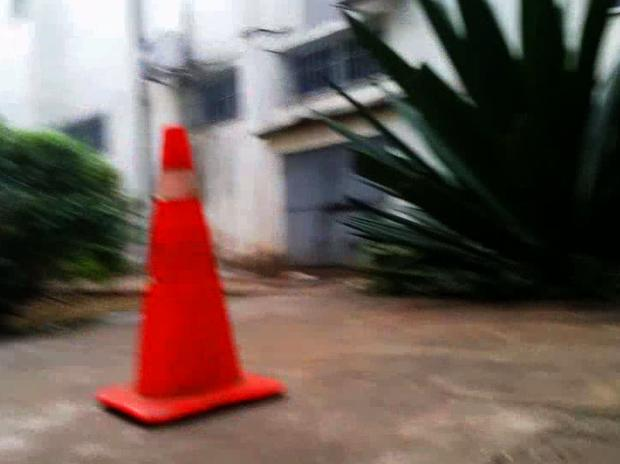0 cone: (93, 128, 286, 425)
